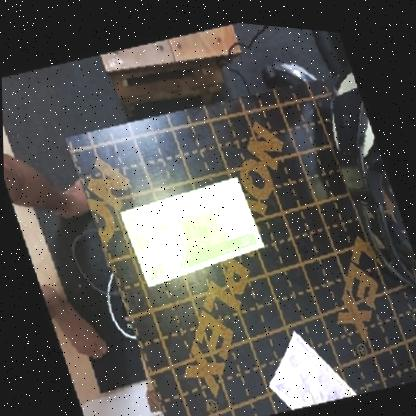fifty-back-vef: (114, 159, 270, 295)
